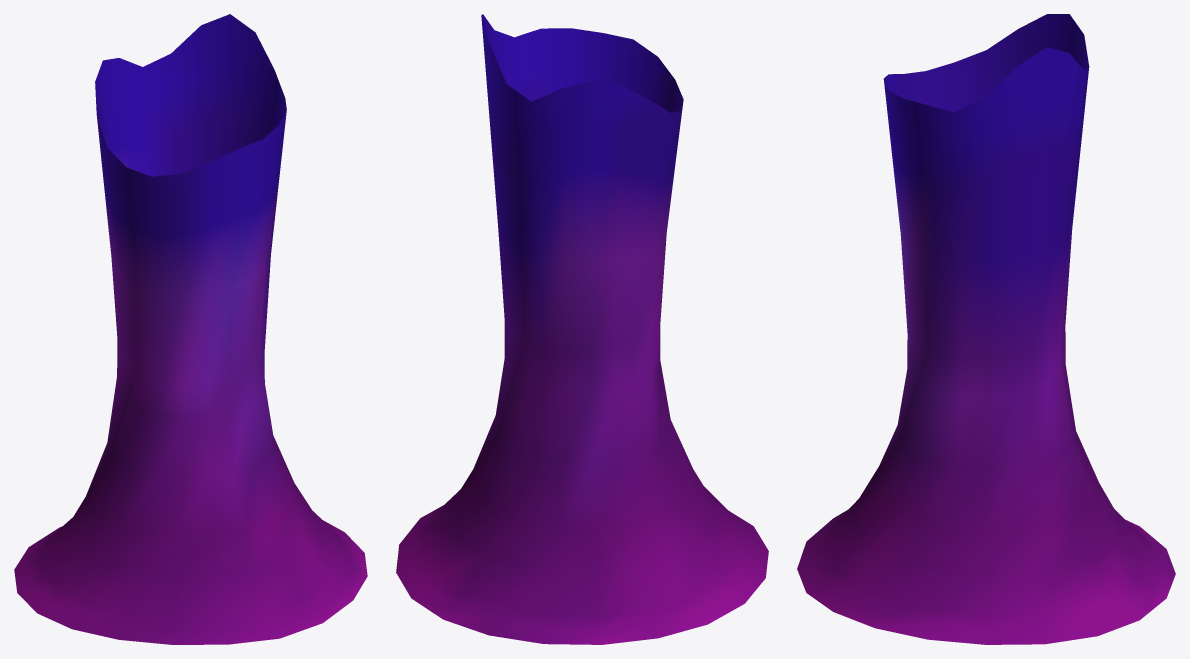
File: Shockwave_1.fbx
3 views of the same model, side by side, from view 1: azimuth 30°, elevation 25°; view 2: azimuth 150°, elevation 25°; view 3: azimuth 270°, elevation 25° (orthographic). The views are drawn at different scales.
Visible parts, largest first — view 1: pCylinder1; view 2: pCylinder1; view 3: pCylinder1.
Boxes of the visible parts, x1,y1,x2,y2 form: pCylinder1: (14,14,367,644); pCylinder1: (396,14,768,644); pCylinder1: (797,14,1175,644).
Bounding box in the file's own units: 2.55 × 4.18 × 2.55.
